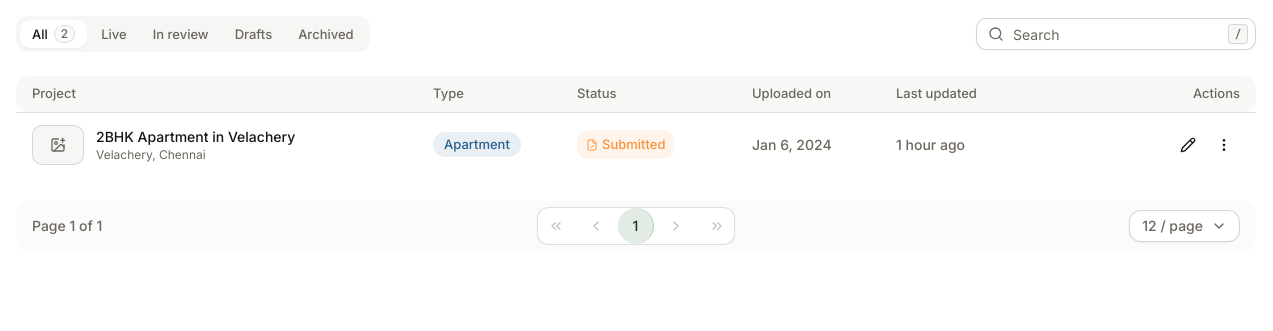
DesignerProjectsList › explains submitted on keyboard focus and dismisses on Escape
This screenshot has width=1273, height=331.
Focus the button with aria-label "Submitted details". click: (626, 144)
box: [577,130,674,159]
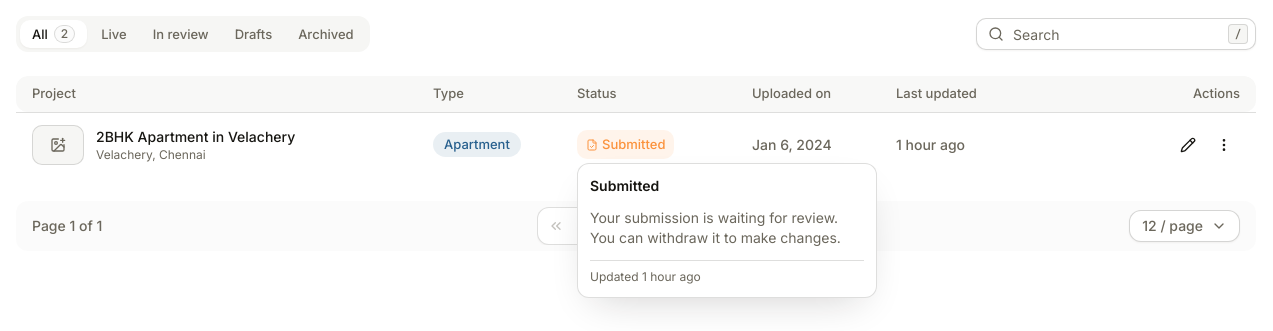
Check: the tooltip shows "waiting for review", box [590,209,841,246]
Press Escape
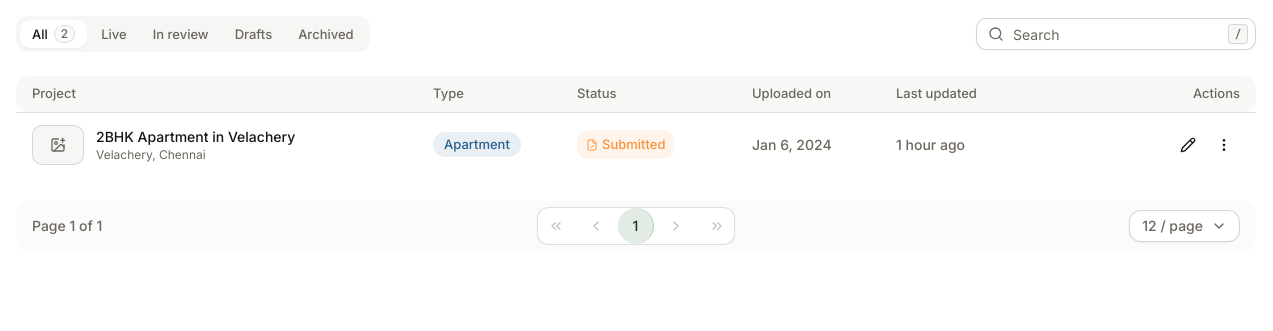
Check: the tooltip is gone
